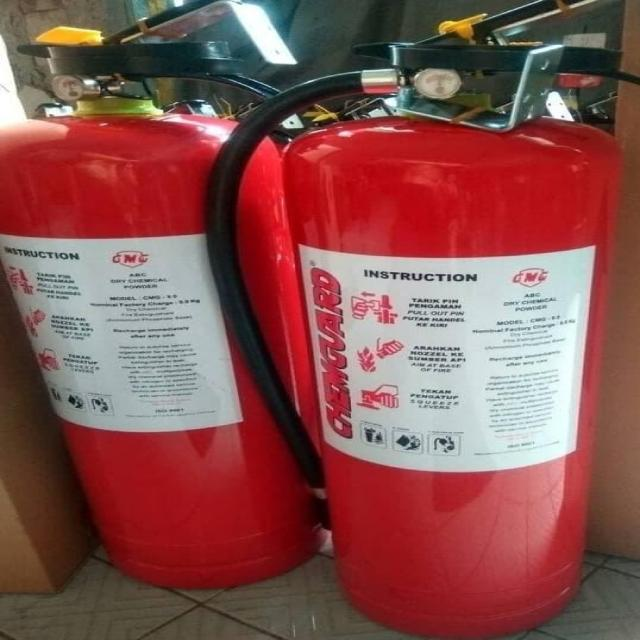fire_extinguisher: (195, 0, 639, 638), (0, 0, 334, 594)
